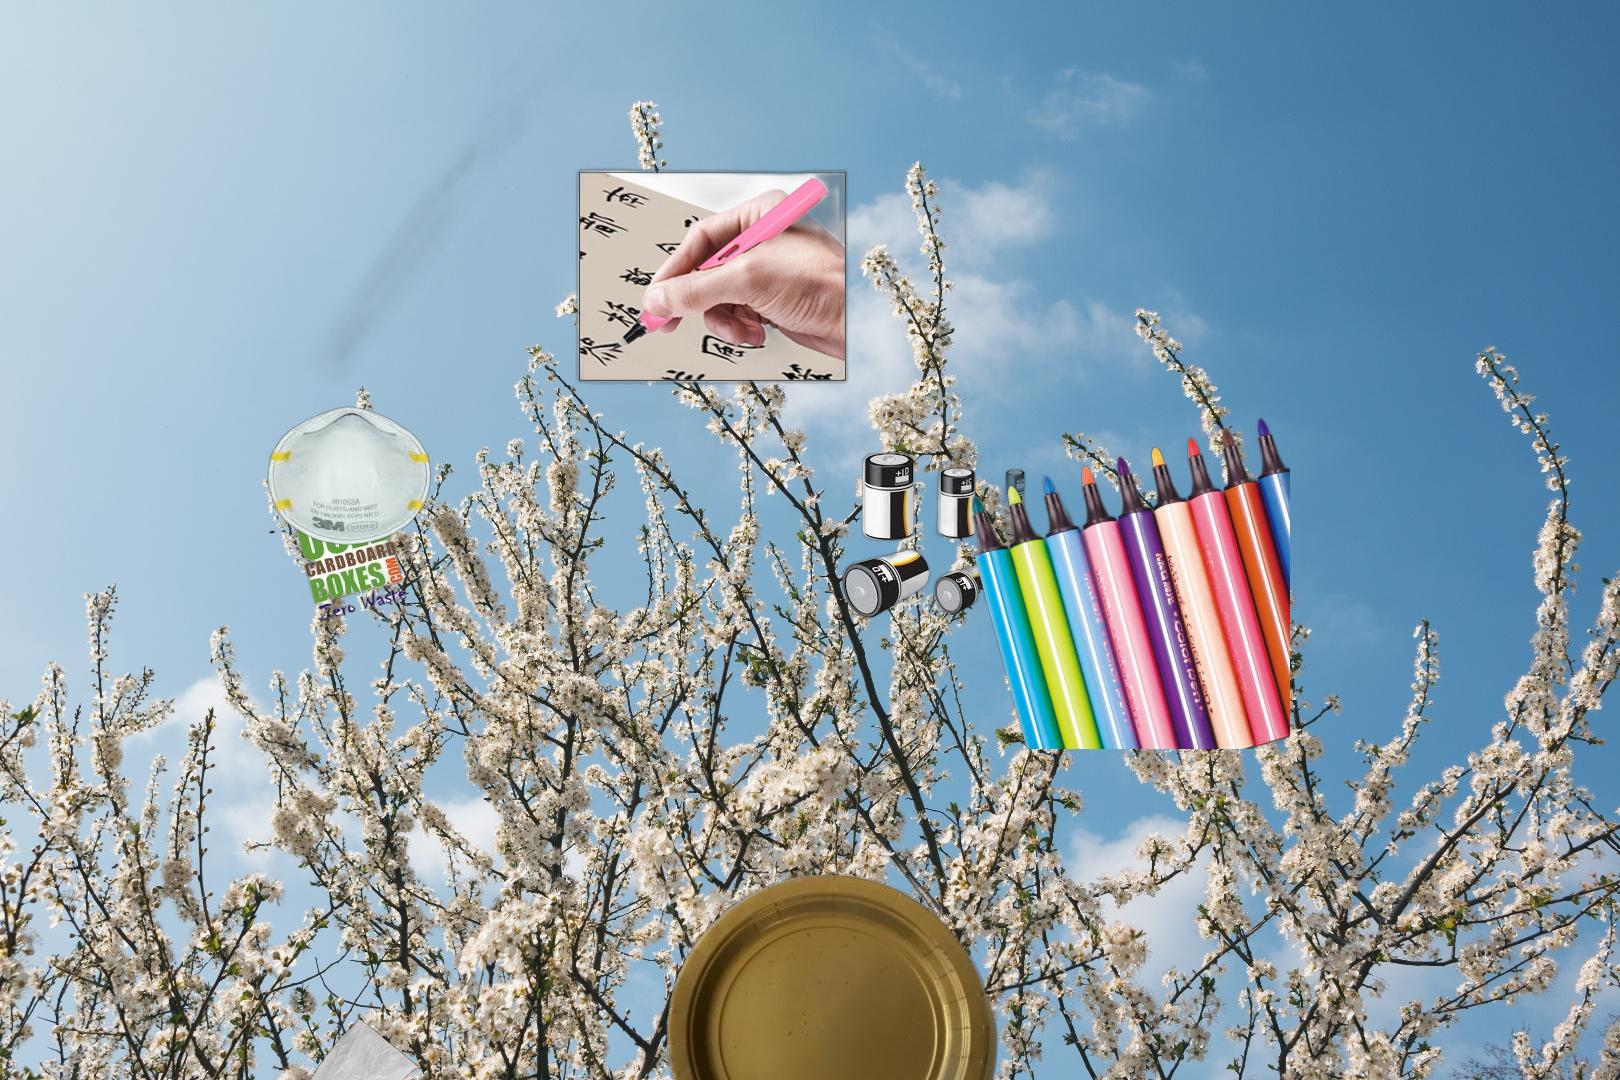battery: (839, 450, 1038, 621)
paper: (662, 871, 1002, 1080)
penholder: (305, 22, 854, 571), (971, 415, 1290, 749)
plastic-bag: (285, 1016, 421, 1080)
trash: (265, 404, 434, 548)
trashbox-cardboard: (292, 502, 409, 624)
